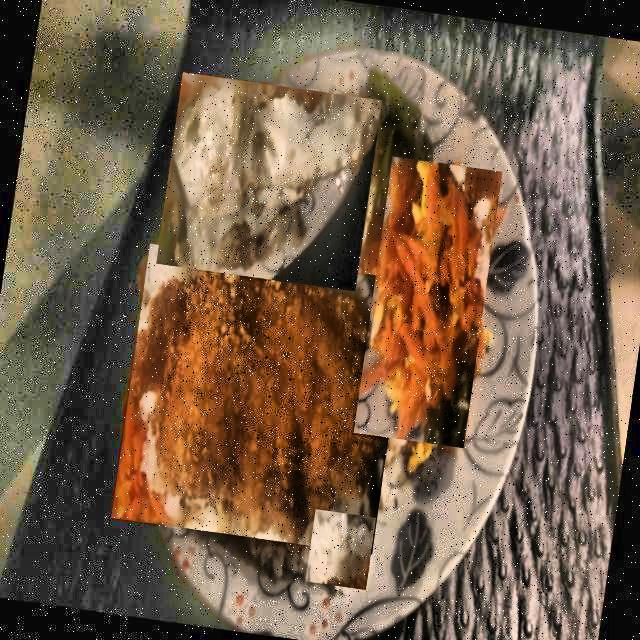Food: (110, 243, 410, 555), (156, 71, 382, 292), (352, 156, 502, 449), (305, 508, 376, 590)
